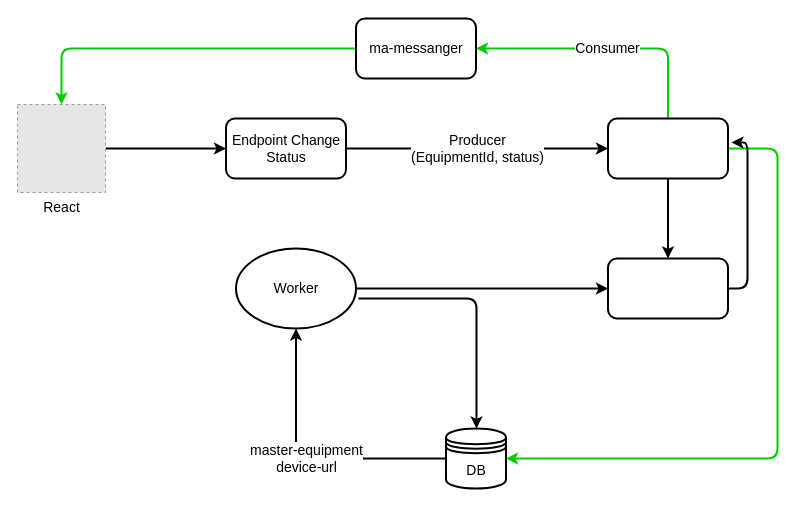
Some shapes in this 804 by 506 pixel diagram are drawn without their labels. Grey dashed boxes stand in for pictures. The shapes that lost their labels are listed below. From the top down, each one's centre as x and y in pixels, then its label:
At (667,148): "Kafka".
At (667,288): "Device".
